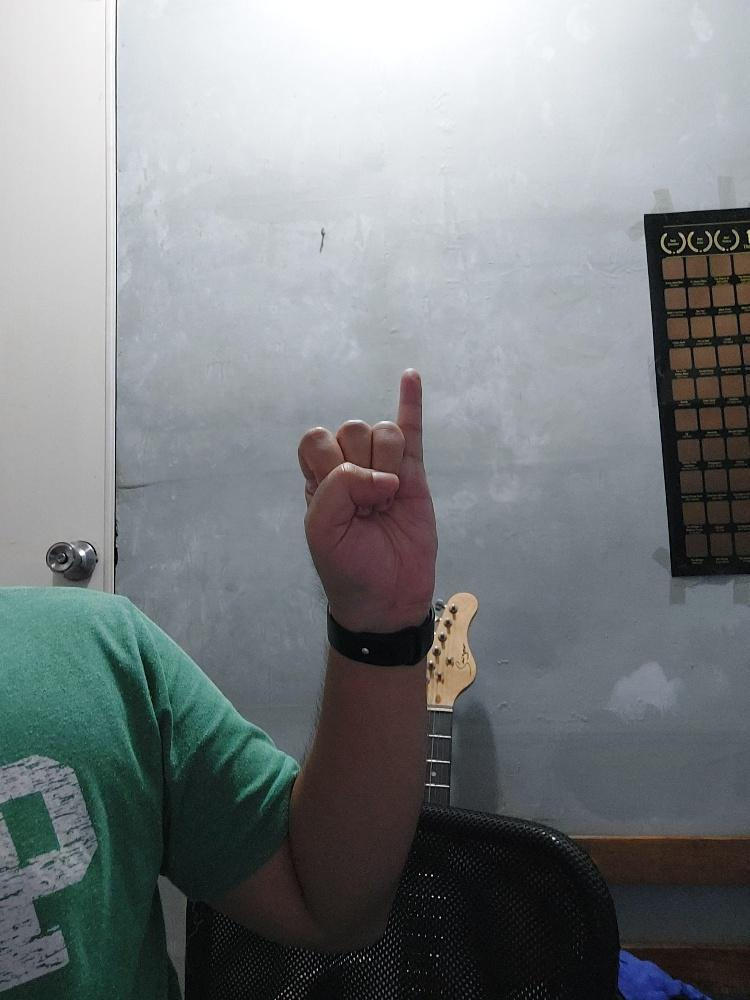i: (294, 367, 441, 620)
